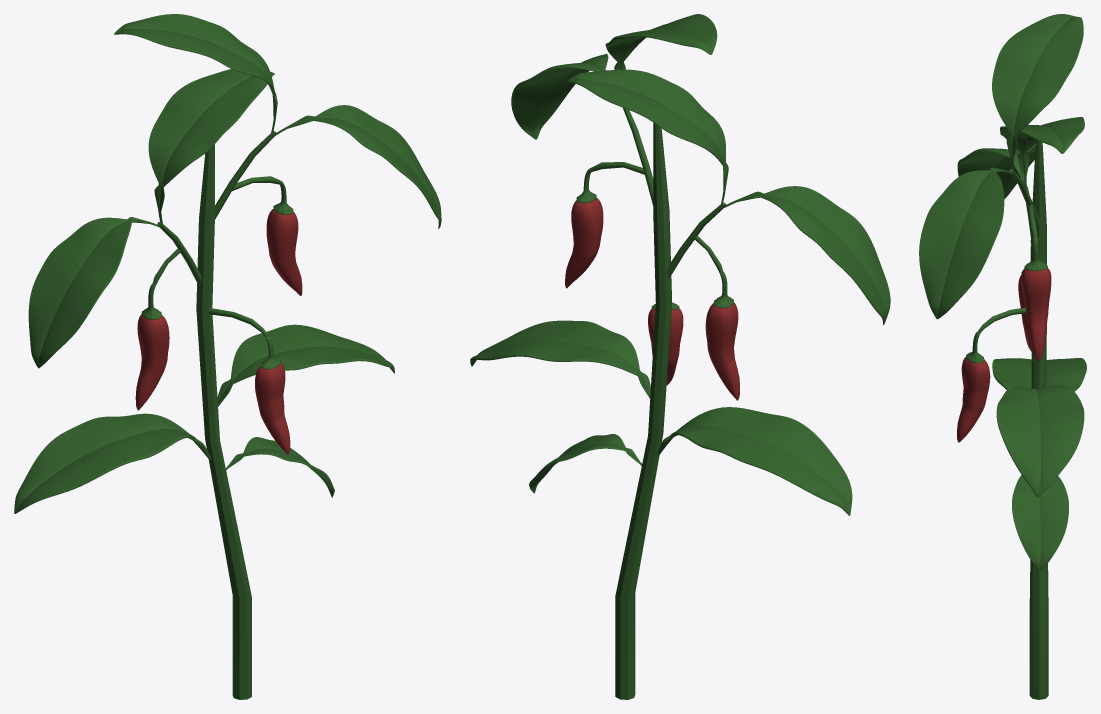
The model's file is Chilli_Big.fbx.
The picture shows the model from 3 angles, left to right: view 1: azimuth 30°, elevation 25°; view 2: azimuth 150°, elevation 25°; view 3: azimuth 270°, elevation 25°; orthographic projection. The views are drawn at different scales.
Parts seen in each view (by area): view 1: Chilli_Big; view 2: Chilli_Big; view 3: Chilli_Big.
Part boxes in pixels (x1,y1,x2,y2): Chilli_Big: (14,14,441,699); Chilli_Big: (470,14,890,699); Chilli_Big: (919,14,1086,699).
Size of the model in its own units: 10.05 by 17.04 by 4.07.
